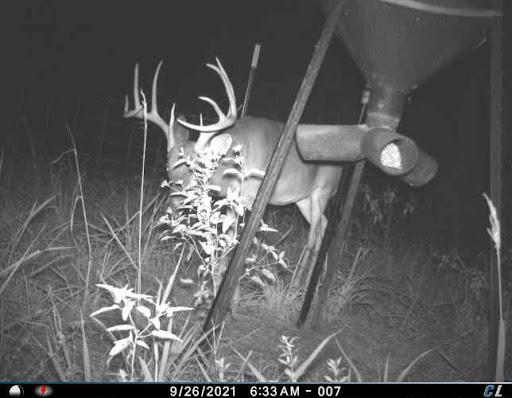Deer: (118, 47, 349, 300)
